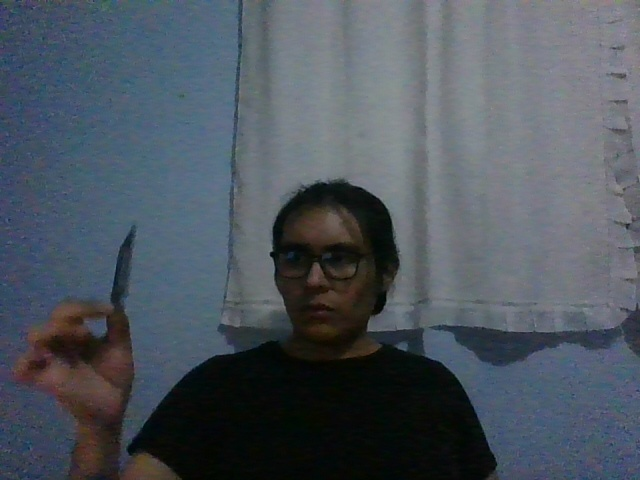tarjeta: (109, 224, 137, 304)
